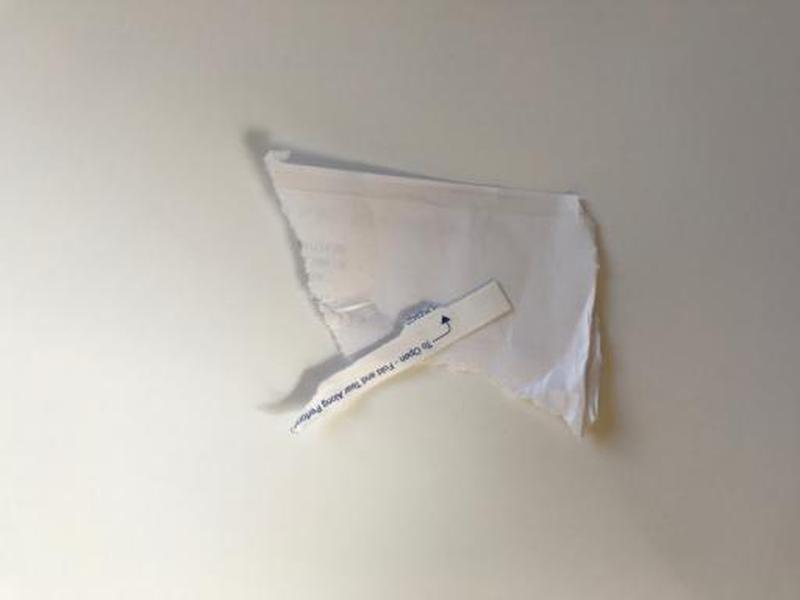paper: (247, 134, 609, 450)
